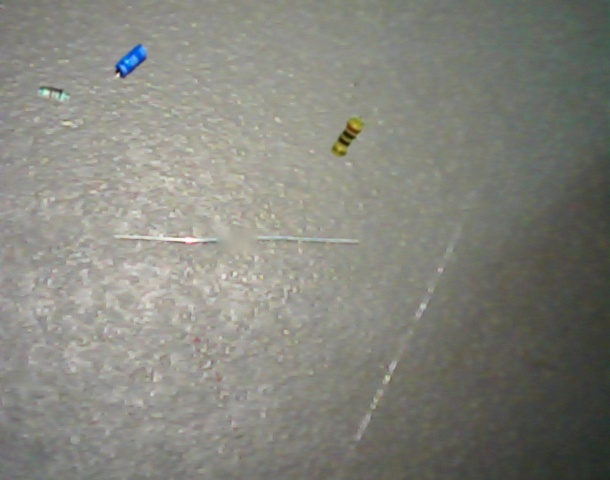capacitor: (115, 43, 147, 79)
resistor: (330, 116, 366, 158), (37, 83, 71, 103)
